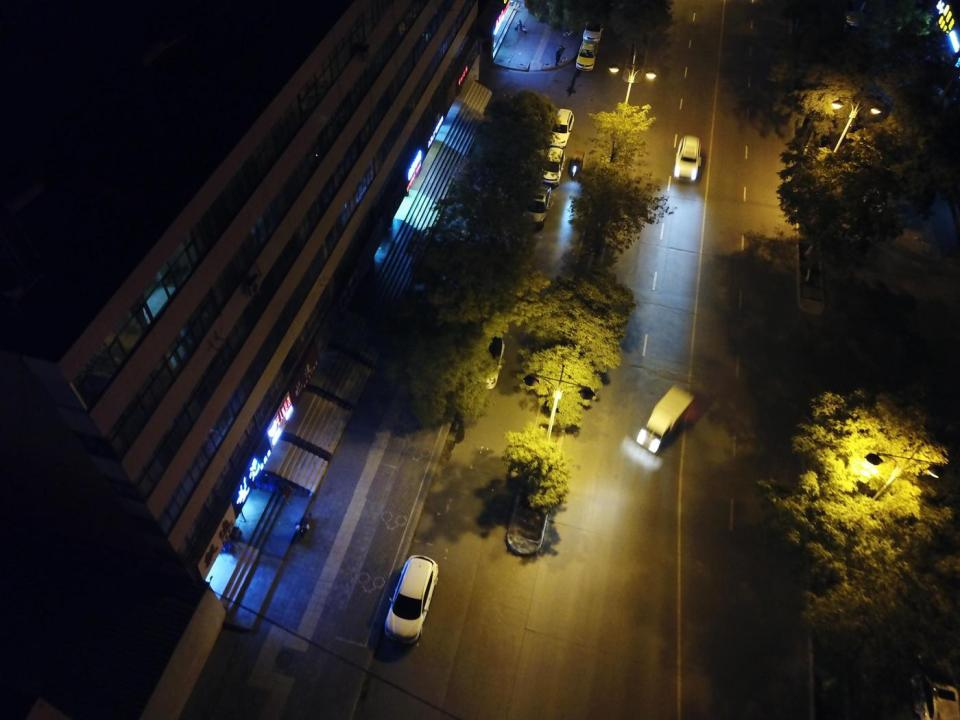car: (384, 554, 440, 640), (910, 652, 959, 720), (472, 334, 504, 389), (856, 160, 886, 218), (673, 135, 700, 182), (522, 183, 550, 226), (843, 8, 869, 53), (540, 146, 565, 187), (548, 108, 574, 147), (576, 40, 597, 70), (582, 16, 604, 44)
truck: (637, 384, 694, 456)
